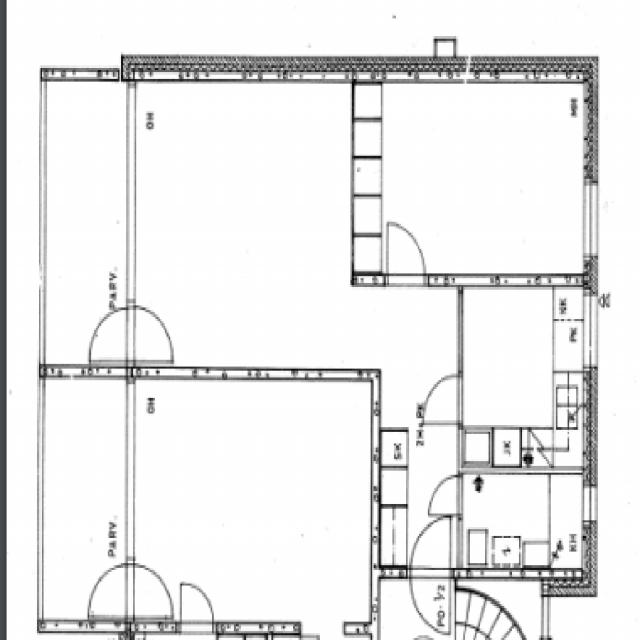door: (409, 568, 452, 634), (409, 512, 452, 578), (128, 306, 176, 361), (88, 306, 136, 361), (387, 220, 426, 286), (420, 375, 462, 426), (430, 478, 462, 516)
